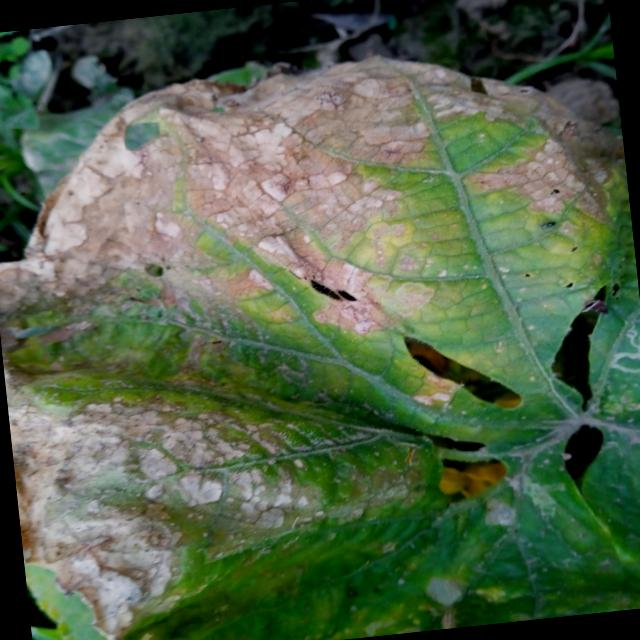cucumber_gummy: (0, 11, 640, 640)
